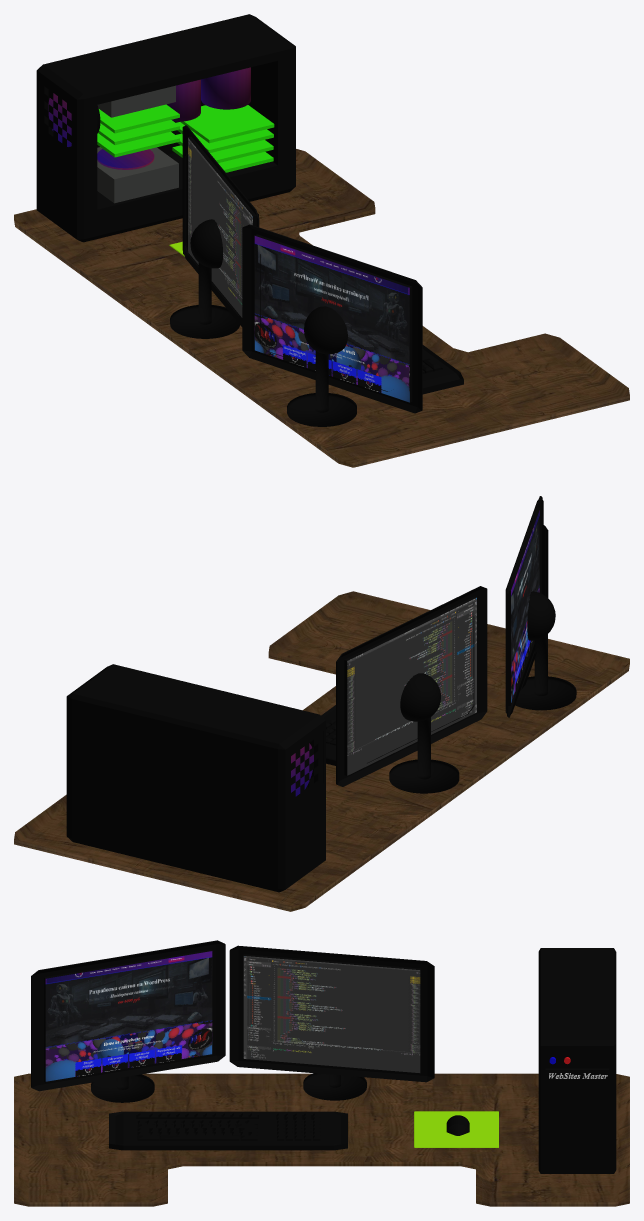
The model's file is comp.gltf.
The picture shows the model from 3 angles, top to bottom: view 1: azimuth 30°, elevation 25°; view 2: azimuth 150°, elevation 25°; view 3: azimuth 270°, elevation 25°; orthographic projection. The views are drawn at different scales.
Visible parts, largest first — view 1: Плоскость, Куб, Сфера.002, Сфера.003, Куб.002, Плоскость.002, Цилиндр.002, Плоскость.001, Плоскость.006, Куб.001, Плоскость.009, Плоскость.008 (+6 smaller); view 2: Куб, Плоскость, Сфера.003, Сфера.002, Плоскость.001, Цилиндр; view 3: Плоскость, Сфера.003, Сфера.002, Куб, Плоскость.009, Плоскость.014, Плоскость.013, Плоскость.011, Куб.065, Цилиндр.007.
Part boxes in pixels (left/top/right/bottom): Плоскость: left=14, top=149, right=629, bottom=467; Куб: left=36, top=14, right=295, bottom=242; Сфера.002: left=242, top=224, right=422, bottom=426; Сфера.003: left=170, top=125, right=259, bottom=338; Куб.002: left=97, top=147, right=178, bottom=203; Плоскость.002: left=180, top=105, right=274, bottom=143; Цилиндр.002: left=201, top=67, right=250, bottom=109; Плоскость.001: left=39, top=81, right=74, bottom=158; Плоскость.006: left=99, top=104, right=179, bottom=133; Куб.001: left=97, top=85, right=175, bottom=117; Плоскость.009: left=422, top=345, right=463, bottom=394; Плоскость.008: left=97, top=131, right=179, bottom=157; Куб: left=66, top=664, right=325, bottom=892; Плоскость: left=14, top=591, right=629, bottom=911; Сфера.003: left=336, top=586, right=487, bottom=793; Сфера.002: left=505, top=496, right=576, bottom=717; Плоскость.001: left=288, top=731, right=322, bottom=808; Цилиндр: left=291, top=743, right=313, bottom=796; Плоскость: left=14, top=1073, right=629, bottom=1206; Сфера.003: left=229, top=945, right=434, bottom=1100; Сфера.002: left=31, top=940, right=225, bottom=1102; Куб: left=538, top=948, right=616, bottom=1173; Плоскость.009: left=109, top=1111, right=347, bottom=1150; Плоскость.014: left=414, top=1111, right=498, bottom=1147; Плоскость.013: left=132, top=1140, right=324, bottom=1143; Плоскость.011: left=259, top=1115, right=276, bottom=1140; Куб.065: left=160, top=1135, right=239, bottom=1140; Цилиндр.007: left=446, top=1115, right=469, bottom=1135.
Bounding box in the file's own units: 6.31 × 3.4 × 12.77.
Materials: 20 (6 with a texture image).
